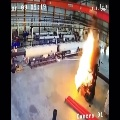fire: (74, 29, 95, 91)
